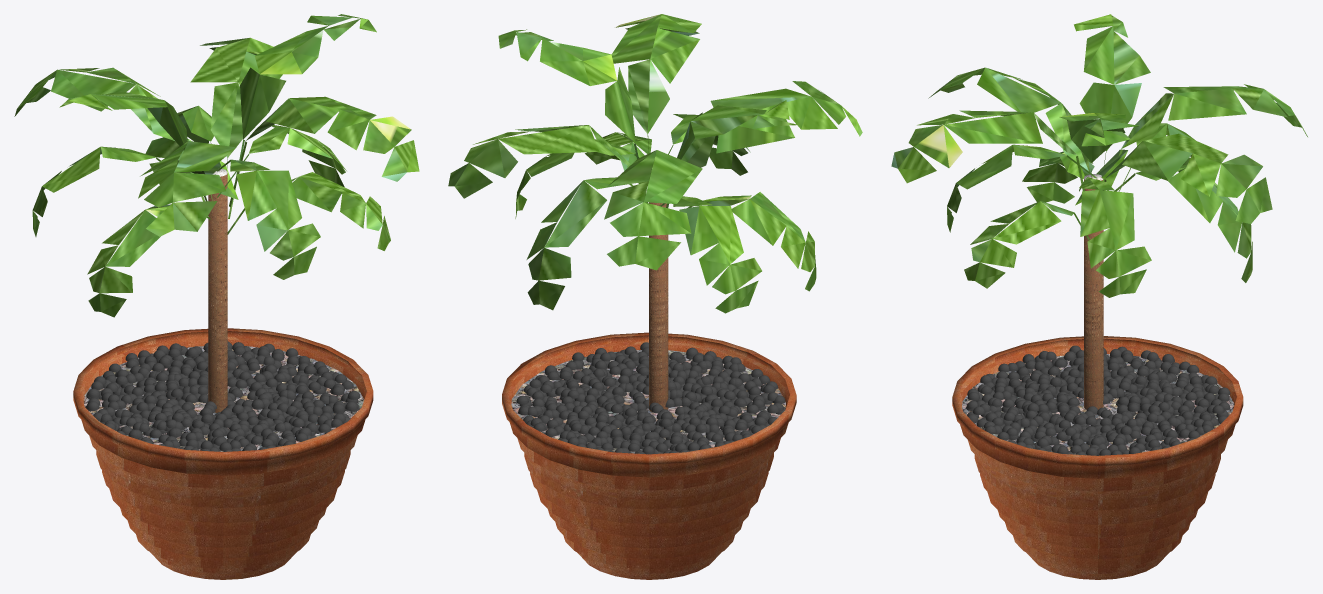
3 renders of one model, left to right at view 1: azimuth 30°, elevation 25°; view 2: azimuth 150°, elevation 25°; view 3: azimuth 270°, elevation 25°, orthographic. The views are drawn at different scales.
Visible parts, largest first — view 1: SketchUp (×32), group_0 (×11), group_1; view 2: SketchUp (×33), group_0 (×11), group_1; view 3: SketchUp (×30), group_0 (×11), group_1.
Part boxes in pixels (box(x1,y1,x2,y2)): SketchUp (×32): box(42, 25, 419, 451); group_0 (×11): box(73, 328, 373, 579); group_1: box(208, 173, 227, 412); SketchUp (×33): box(448, 14, 845, 453); group_0 (×11): box(502, 332, 796, 579); group_1: box(649, 202, 668, 411); SketchUp (×30): box(891, 26, 1287, 454); group_0 (×11): box(952, 336, 1243, 579); group_1: box(1084, 179, 1103, 409).
Size of the model in its own units: 387 by 469 by 599.
